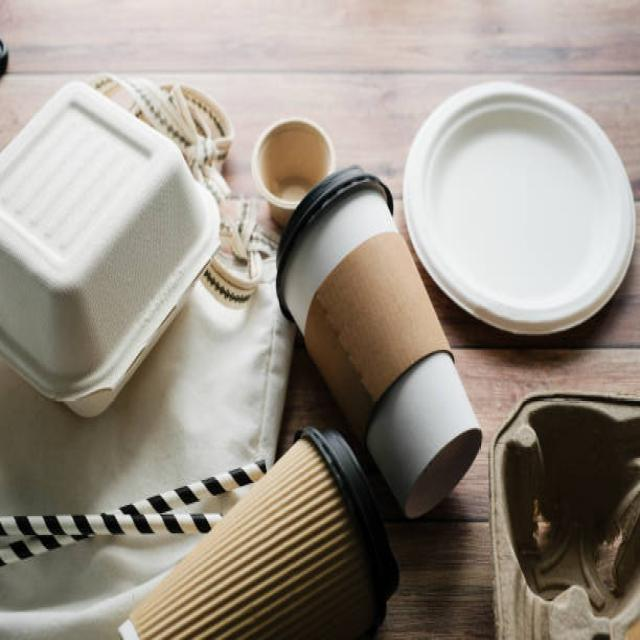cardboard: (278, 165, 466, 505), (483, 366, 638, 634)
plastic: (1, 53, 196, 386)
